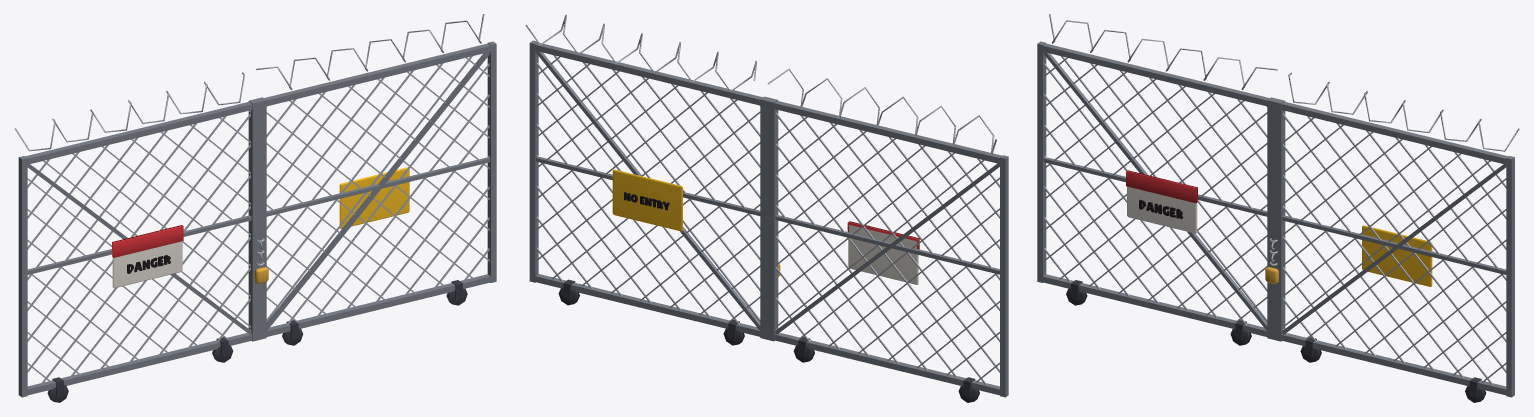
File: city_gate_fence_door.glb
The picture shows the model from 3 angles, left to right: view 1: azimuth 30°, elevation 25°; view 2: azimuth 150°, elevation 25°; view 3: azimuth 330°, elevation 25°; orthographic projection.
Visible parts, largest first — view 1: LeafL, LeafR; view 2: LeafL, LeafR; view 3: LeafL, LeafR.
Part boxes in pixels (x1,y1,x2,y2): LeafL: [14, 72, 268, 402]; LeafR: [256, 14, 496, 345]; LeafL: [767, 68, 1008, 402]; LeafR: [525, 14, 770, 345]; LeafL: [1037, 14, 1278, 345]; LeafR: [1274, 72, 1519, 402].
Bounding box in the file's own units: 6.78 × 3.89 × 0.4278.
